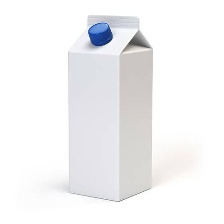carton: (54, 7, 161, 204)
